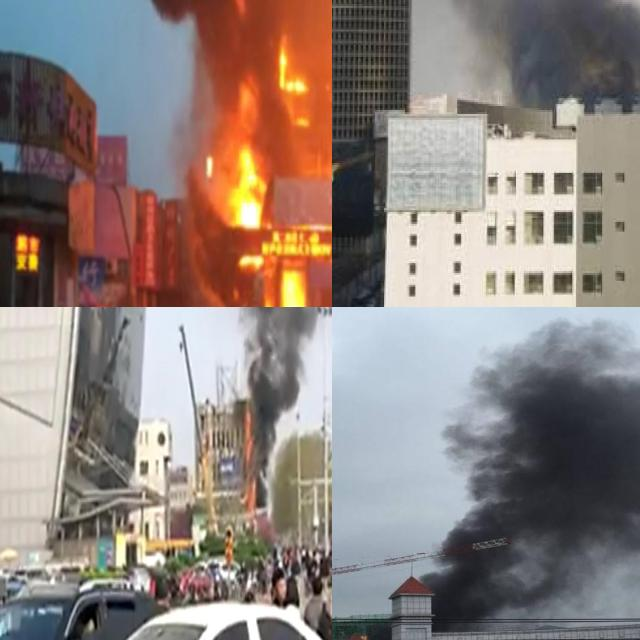fire: (230, 143, 264, 229), (240, 412, 258, 515), (277, 42, 305, 97), (14, 229, 41, 271), (278, 271, 304, 307)
smoke: (434, 307, 640, 618), (392, 0, 640, 108), (233, 307, 332, 507), (180, 120, 225, 307), (199, 13, 265, 108), (133, 0, 287, 25), (273, 0, 332, 54)
